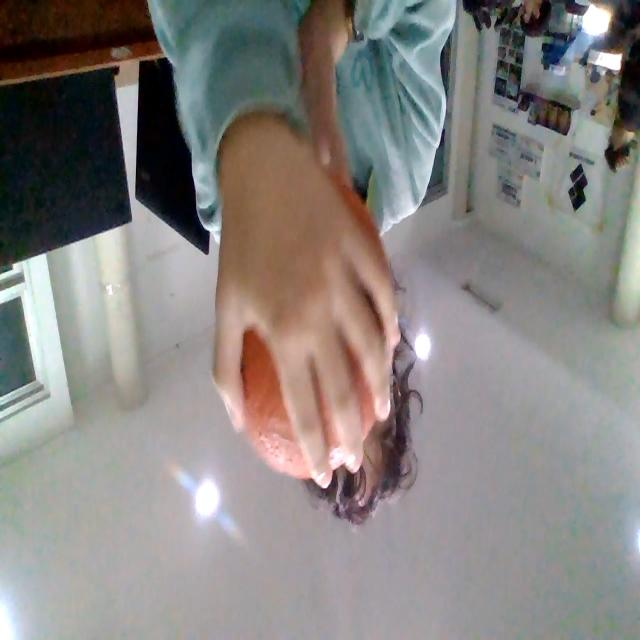ball: (237, 188, 377, 482)
